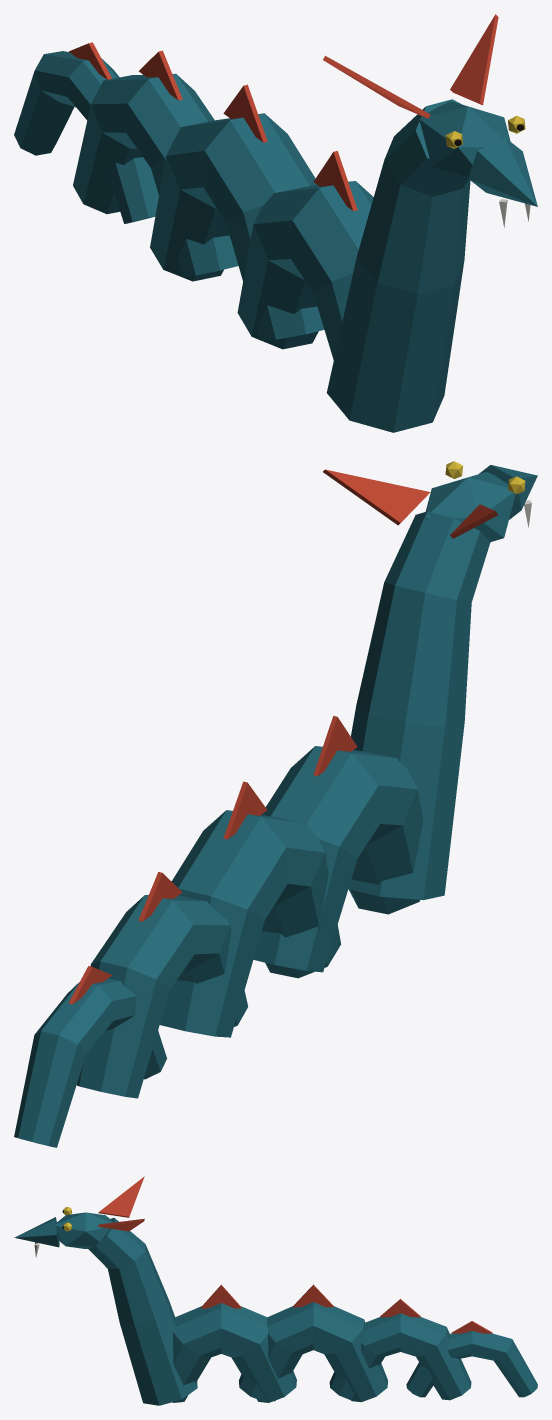
File: beast_water_serpent.glb
3 renders of one model, top to bottom at view 1: azimuth 30°, elevation 25°; view 2: azimuth 150°, elevation 25°; view 3: azimuth 270°, elevation 25°, orthographic. The views are drawn at different scales.
Parts seen in each view (by area): view 1: beast_water_serpent; view 2: beast_water_serpent; view 3: beast_water_serpent.
Part boxes in pixels (x1,y1,x2,y2): beast_water_serpent: (14,14,537,432); beast_water_serpent: (14,461,537,1147); beast_water_serpent: (14,1176,537,1405).
Bounding box in the file's own units: 2.03 × 4.34 × 10.23.
